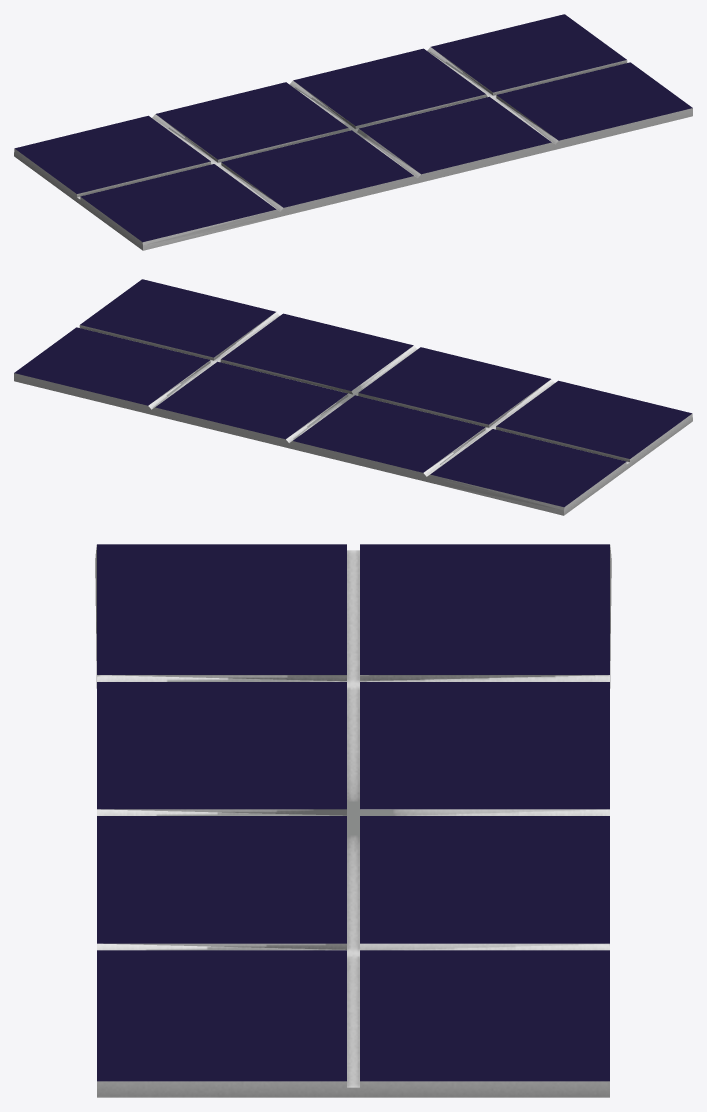
The model's file is solar_panel_top.obj.
The picture shows the model from 3 angles, top to bottom: view 1: azimuth 30°, elevation 25°; view 2: azimuth 150°, elevation 25°; view 3: azimuth 270°, elevation 25°; orthographic projection. The views are drawn at different scales.
Visible parts, largest first — view 1: panel_top_Plane; view 2: panel_top_Plane; view 3: panel_top_Plane.
Boxes of the visible parts, x1=… form: panel_top_Plane: x1=14, y1=14, x2=692, y2=250; panel_top_Plane: x1=14, y1=279, x2=692, y2=515; panel_top_Plane: x1=95, y1=544, x2=611, y2=1097.
Size of the model in its own units: 1.91 by 0.0848 by 0.7744.
1 material, 1 textured.
